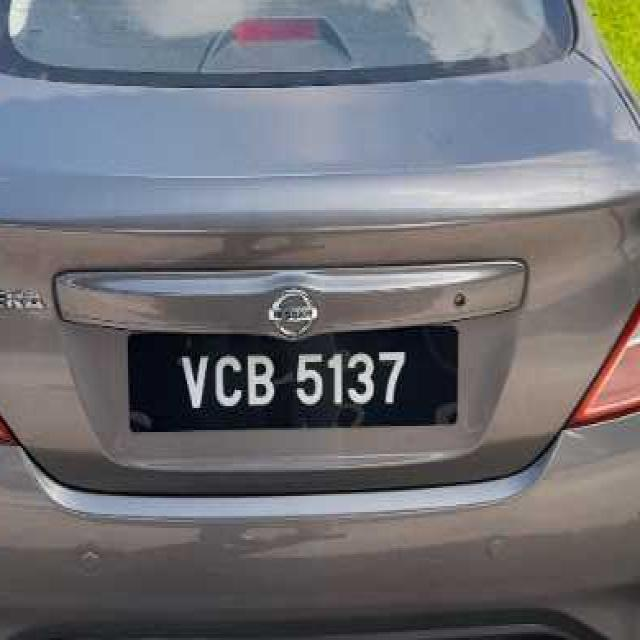car-plate: (127, 330, 468, 432)
